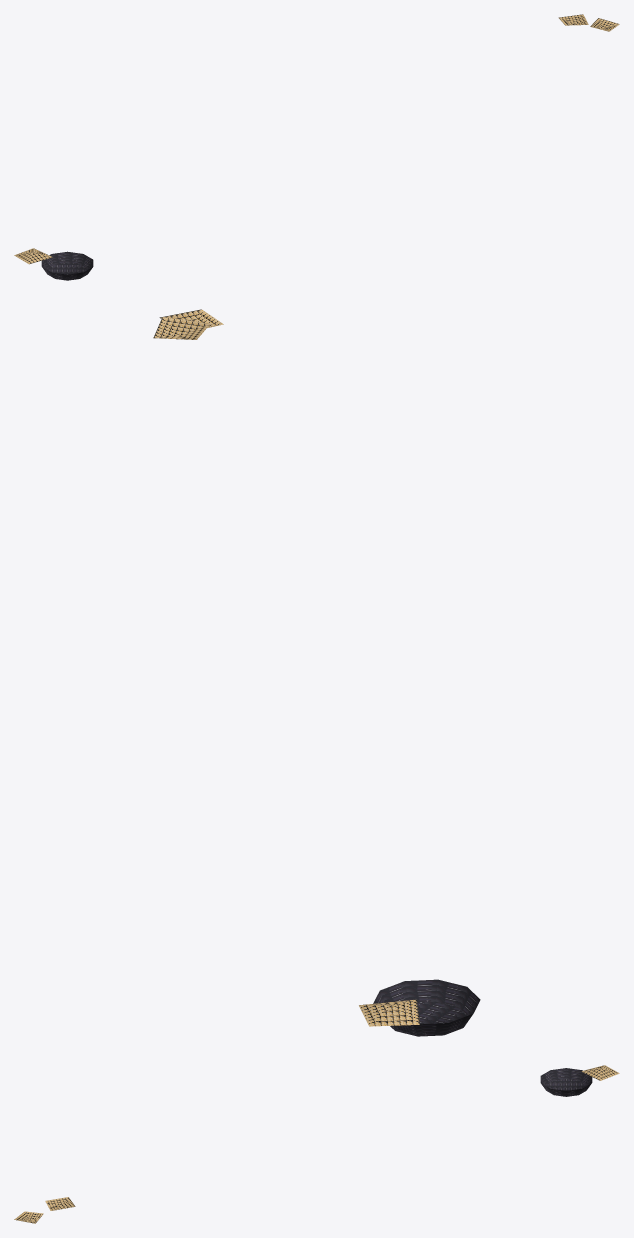
File: 1053item524.gltf
3 renders of one model, top to bottom at view 1: azimuth 90°, elevation 25°; view 2: azimuth 150°, elevation 25°; view 3: azimuth 270°, elevation 25°, orthographic. The views are drawn at different scales.
Visible parts, largest first — view 1: 1053item524; view 2: 1053item524; view 3: 1053item524.
Boxes of the visible parts, left/top/right/bottom form: 1053item524: left=14, top=14, right=619, bottom=280; 1053item524: left=153, top=309, right=480, bottom=1036; 1053item524: left=14, top=1065, right=619, bottom=1223.
Bounding box in the file's own units: 9.13 × 1.41 × 11.33.
Materials: 2 (2 with a texture image).
